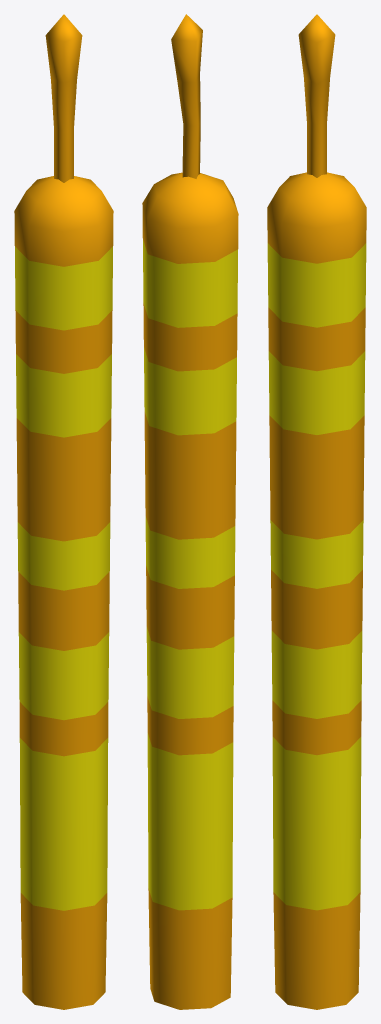
Rendered from birthday_candle_004.glb.
3 renders of one model, left to right at view 1: azimuth 90°, elevation 25°; view 2: azimuth 210°, elevation 25°; view 3: azimuth 270°, elevation 25°, orthographic.
Parts seen in each view (by area): view 1: birthday_candle_004; view 2: birthday_candle_004; view 3: birthday_candle_004.
Part boxes in pixels (x1=…): birthday_candle_004: x1=14, y1=14, x2=113, y2=1009; birthday_candle_004: x1=142, y1=14, x2=238, y2=1009; birthday_candle_004: x1=267, y1=14, x2=366, y2=1009.
Bounding box in the file's own units: 0.9222 × 10.03 × 0.9222.
1 material, 1 textured.
